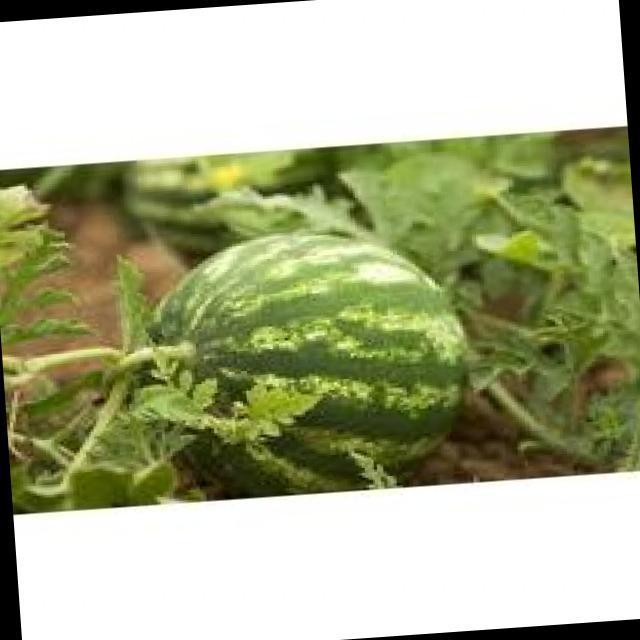watermelon: (151, 233, 466, 496)
